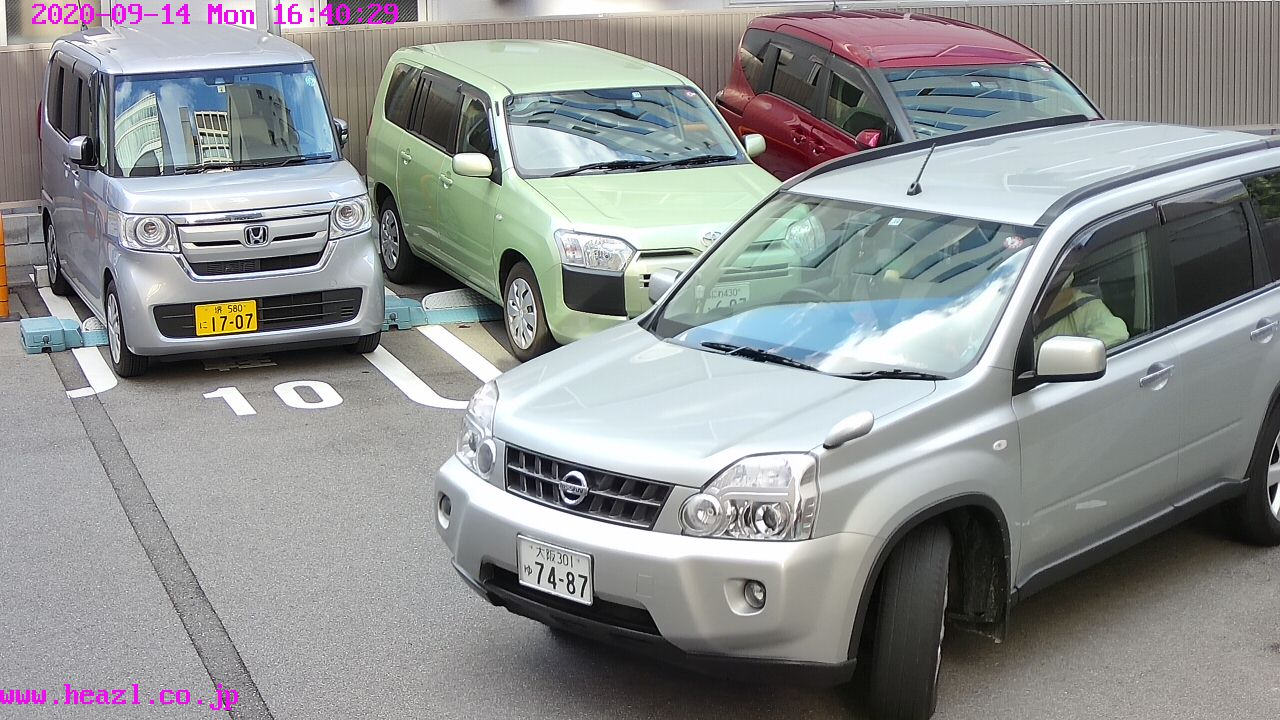number_plate: (516, 535, 595, 601), (194, 303, 260, 336)
